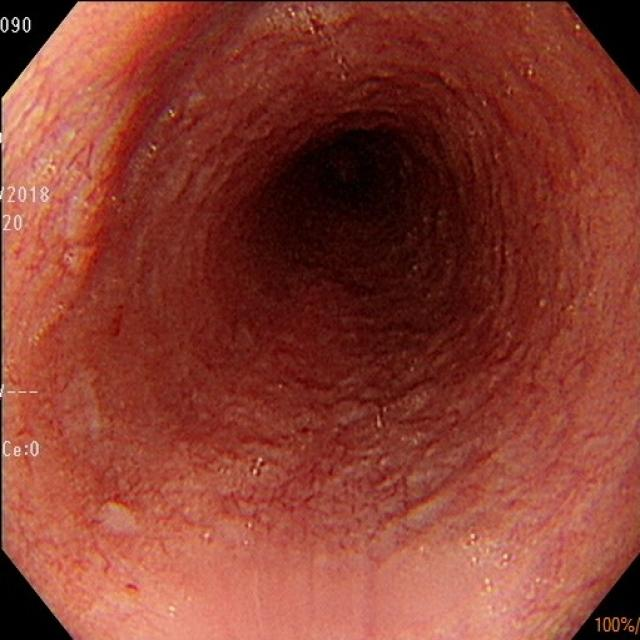A: (218, 443, 431, 552), (35, 107, 142, 316), (88, 435, 157, 529)
E: (279, 131, 442, 261)
S: (3, 185, 53, 206), (594, 615, 640, 635), (2, 383, 41, 403), (4, 441, 41, 461), (2, 206, 25, 235), (2, 15, 34, 35)
T: (249, 3, 352, 44)
